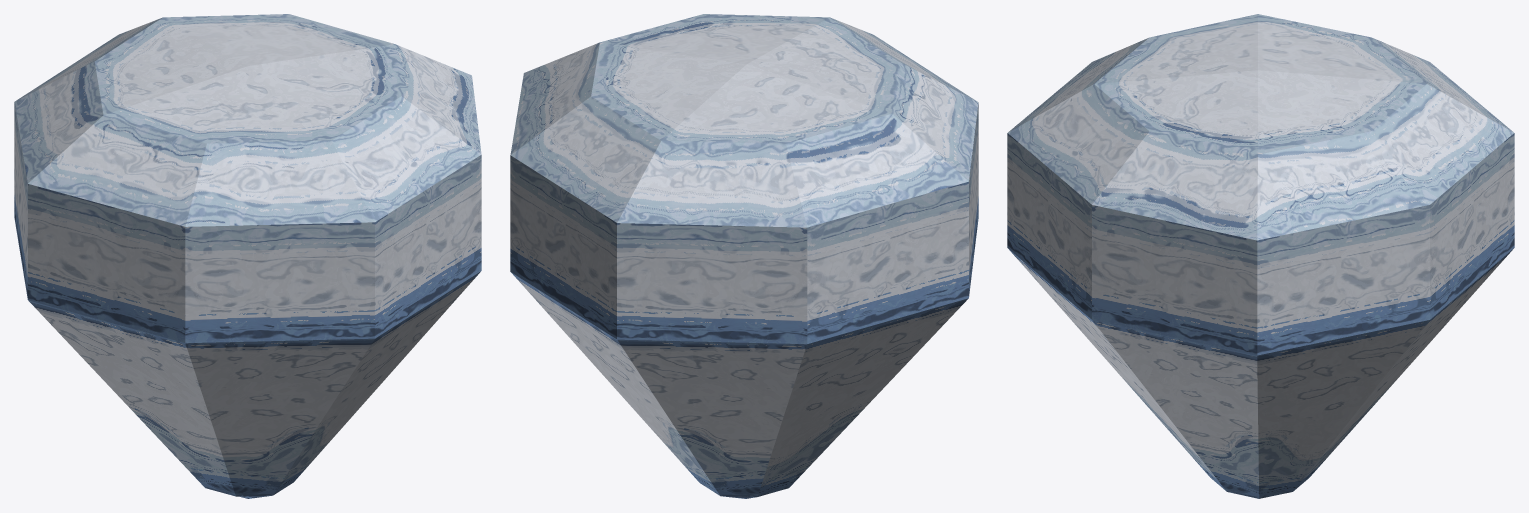
The model's file is diamant.fbx.
3 renders of one model, left to right at view 1: azimuth 30°, elevation 25°; view 2: azimuth 150°, elevation 25°; view 3: azimuth 270°, elevation 25°, orthographic.
Visible parts, largest first — view 1: Cube; view 2: Cube; view 3: Cube.
Part boxes in pixels (x1=…): Cube: x1=14, y1=14, x2=481, y2=498; Cube: x1=510, y1=14, x2=978, y2=498; Cube: x1=1007, y1=14, x2=1514, y2=498.
Size of the model in its own units: 200 by 187 by 200.
